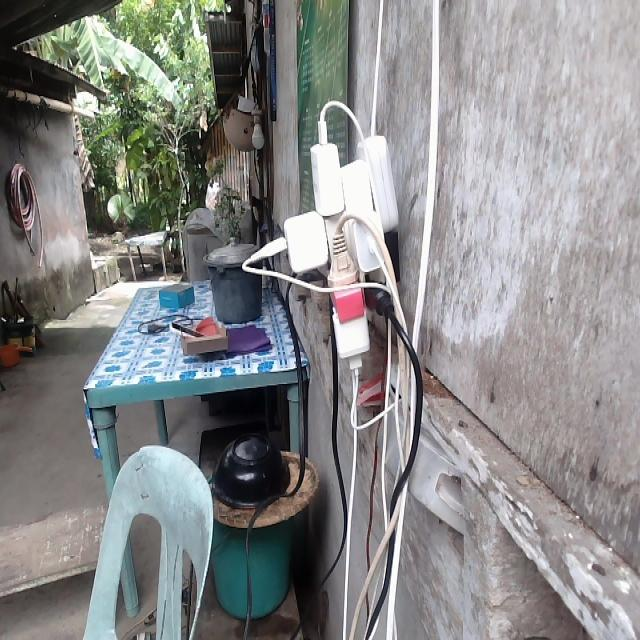-: (250, 102, 401, 374)
